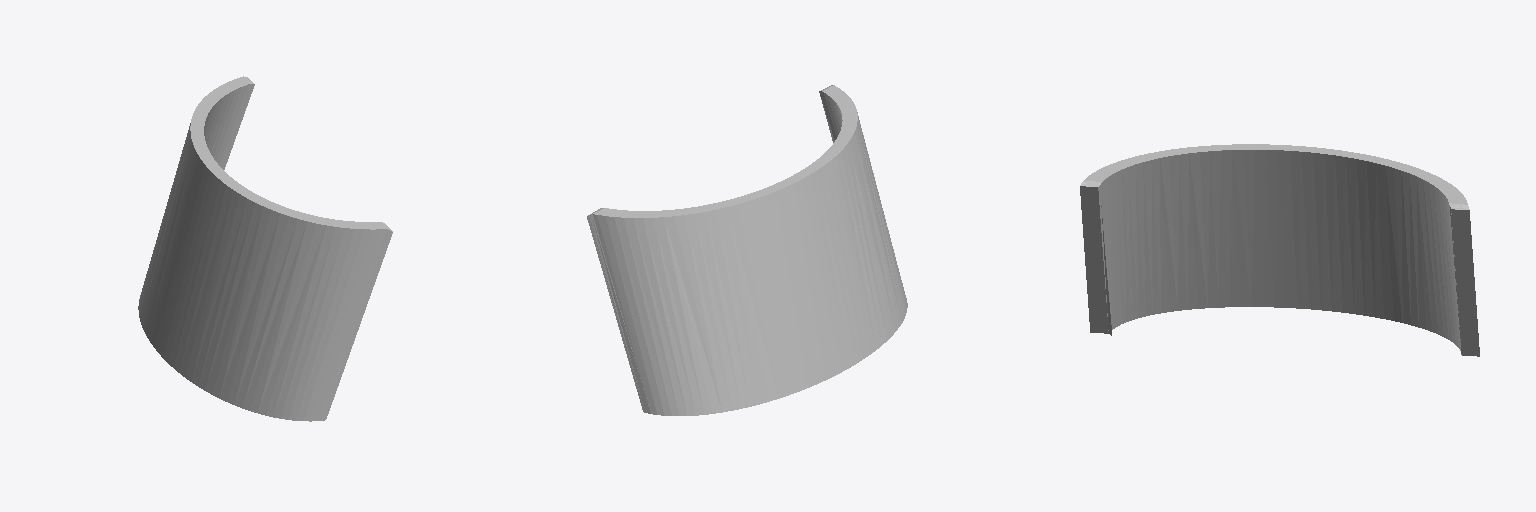
Rendered from chairup.obj.
The picture shows the model from 3 angles: view 1: azimuth 30°, elevation 25°; view 2: azimuth 150°, elevation 25°; view 3: azimuth 270°, elevation 25°; orthographic projection.
Visible parts, largest first — view 1: Intersection_ID45; view 2: Intersection_ID45; view 3: Intersection_ID45.
Part boxes in pixels (x1,y1,x2,y2): Intersection_ID45: (138, 76, 392, 421); Intersection_ID45: (587, 85, 907, 415); Intersection_ID45: (1080, 144, 1479, 356).
Size of the model in its own units: 0.0751 by 0.0753 by 0.1503.